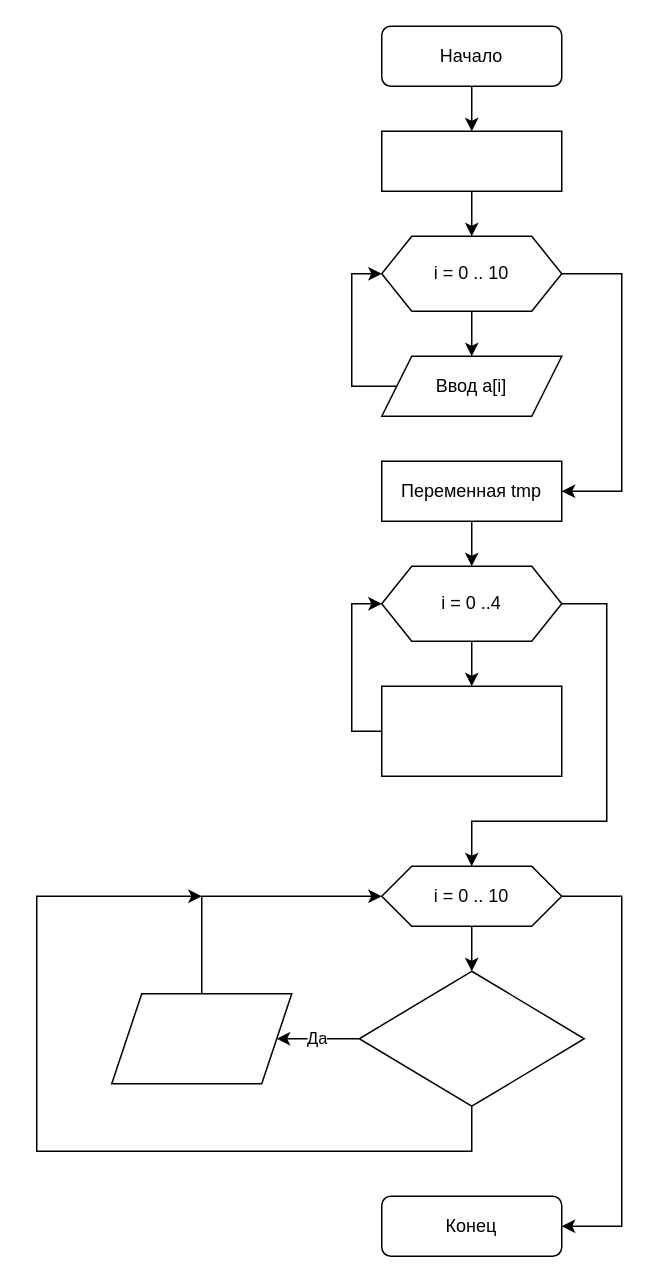
The diagram is 660 pixels wide and 1283 high, and some of its shapes have lost their labels. Here are the shapes that lost their labels. From the top down, the centre of each, then its label:
At (471,160): "Обьявление массива a[11]".
At (471,730): "tmp = a[10 - i] a[10 - i] = a[i] a[i] = tmp".
At (201,1038): "Вывод: Вычисления превышают 400".
At (471,1038): "sqrt(fabs(a[i])) + 5 * pow(a[i], 3) > 400".
